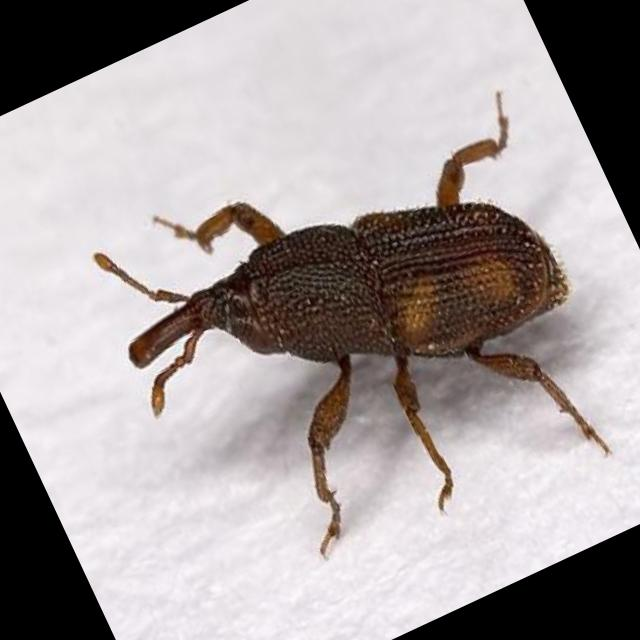rice-bug: (76, 79, 619, 574)
